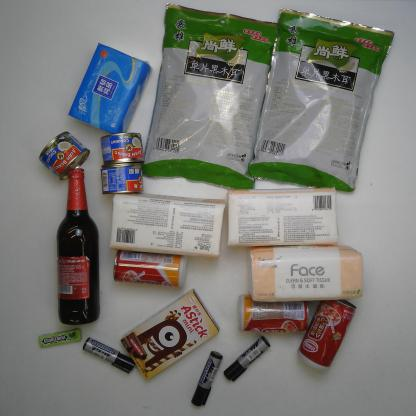Alcohol: (56, 170, 100, 324)
Canned Food: (297, 292, 357, 370), (113, 248, 186, 289), (238, 294, 309, 332), (39, 132, 89, 180), (99, 133, 145, 165), (100, 164, 144, 192)
Dessert: (120, 288, 219, 381)
Dried Food: (249, 9, 395, 192), (142, 3, 281, 191)
Gum: (38, 327, 82, 347)
Stationery: (224, 335, 271, 381), (82, 338, 136, 373), (190, 351, 222, 407)
Tissue: (68, 42, 152, 137), (110, 192, 226, 260), (247, 244, 363, 302), (226, 188, 339, 247)
